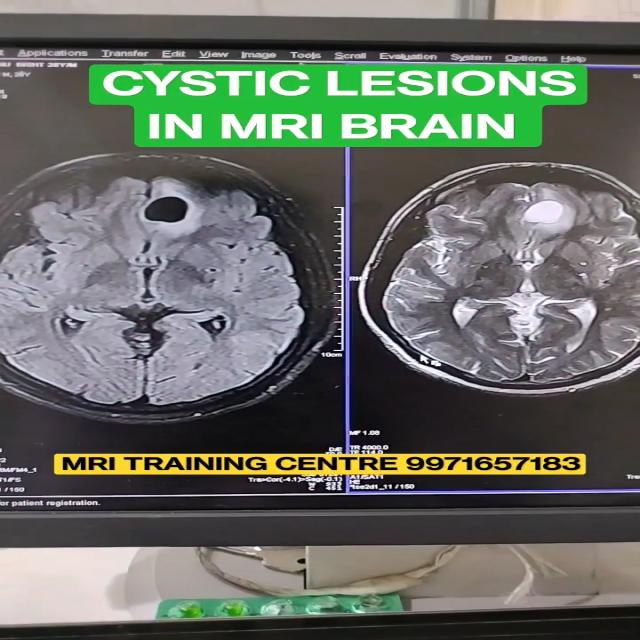tumor: (492, 195, 640, 247), (125, 184, 234, 251)
